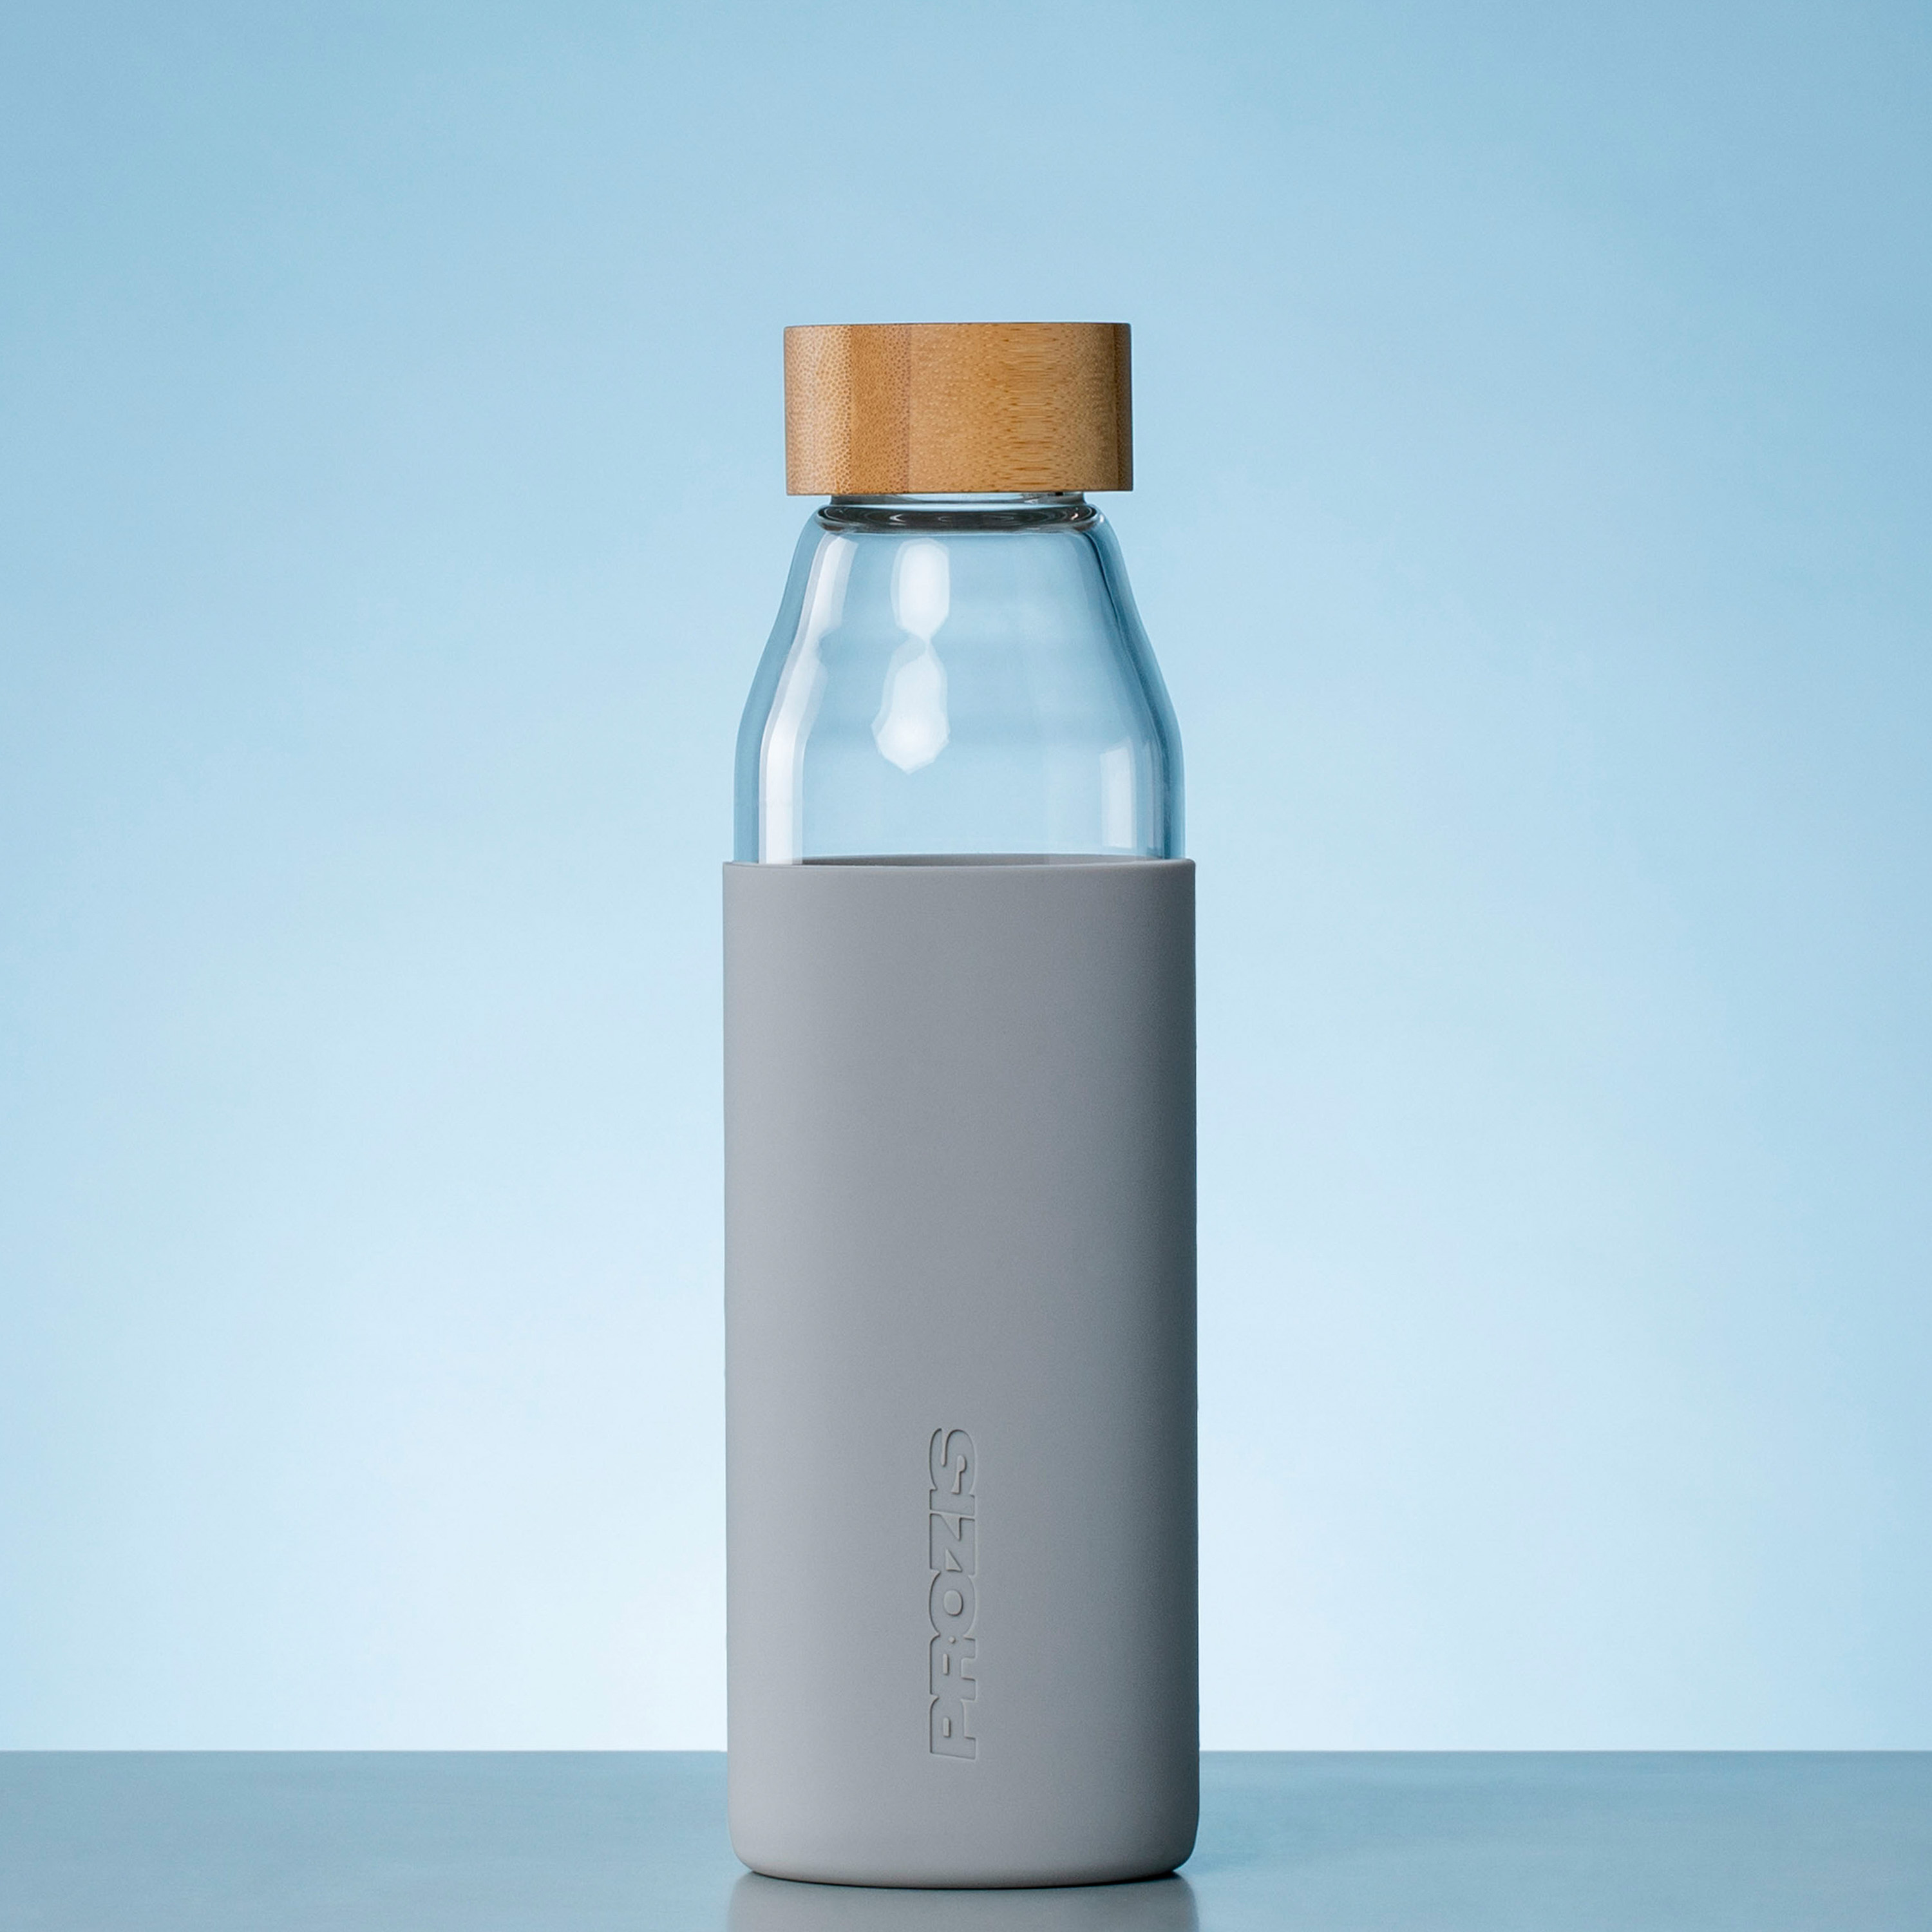glass_bottleww: (623, 159, 1336, 1925)
